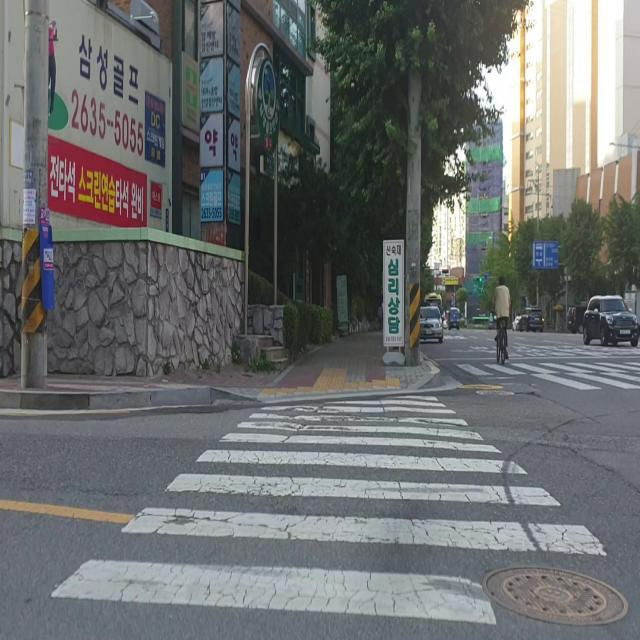횡단보도: (48, 393, 610, 628), (446, 359, 640, 392)
